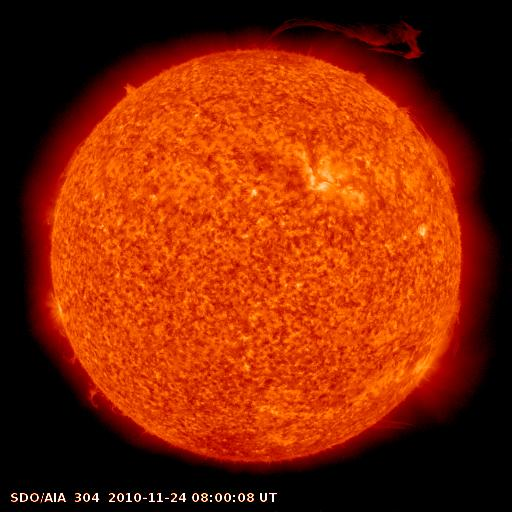prominence: (258, 1, 427, 79), (56, 348, 160, 443), (35, 131, 100, 230), (398, 106, 463, 189), (433, 297, 478, 359), (101, 67, 152, 110)
